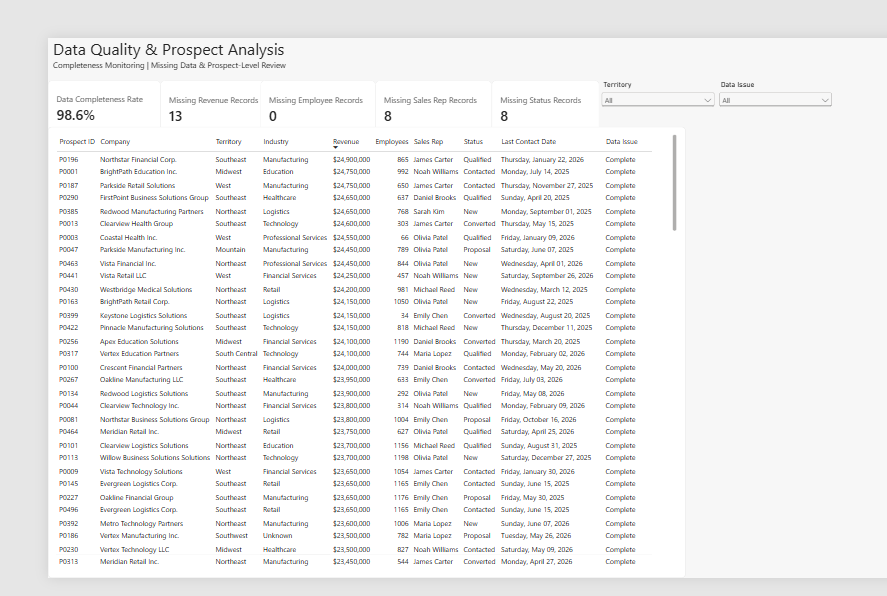

The page's visual inventory and layout, read from the dashboard file:
{"tool":"powerbi","page":{"name":"Data Quality & Prospect Analysis","canvas":[1920,1080],"ordinal":1},"visuals":[{"type":"textbox","box":[10,0,830,95],"z":0},{"type":"cardVisual","fields":{"Data":["Sales Prospects.Data Completeness Rate"]},"box":[0,85,225,110],"z":1000},{"type":"cardVisual","fields":{"Data":["Sales Prospects.Missing Status Records"]},"box":[887.5,85,215,115],"z":2000},{"type":"cardVisual","fields":{"Data":["Sales Prospects.Missing Revenue Records"]},"box":[225,85,225,115],"z":3000},{"type":"cardVisual","fields":{"Data":["Sales Prospects.Missing Employee Records"]},"box":[425,85,230,115],"z":4000},{"type":"cardVisual","fields":{"Data":["Sales Prospects.Missing Sales Rep Records"]},"box":[655,85,232.5,115],"z":5000},{"type":"tableEx","fields":{"Values":["Sales Prospects.Prospect ID","Sales Prospects.Company","Sales Prospects.Territory","Sales Prospects.Industry","Sum(Sales Prospects.Revenue)","Sum(Sales Prospects.Employees)","Sales Prospects.Sales Rep","Sales Prospects.Status","Sales Prospects.Last Contact Date","Sales Prospects.Data Issue"]},"box":[0,177.5,1275,902.5],"z":6000},{"type":"slicer","fields":{"Values":["Sales Prospects.Data Issue"]},"box":[1337.5,85,235,110],"z":6001},{"type":"slicer","fields":{"Values":["Sales Prospects.Territory"]},"box":[1102.5,85,235,100],"z":6002}]}

Visuals, with their boxes on the page's 1920x1080 design canvas (x1, y1, x2, y2). These are canvas units, not pixel positions in the 887x596 screenshot, which may show the page scaled, cropped or inside an application window:
textbox: <region>10, 0, 840, 95</region>
cardVisual - Sales Prospects.Data Completeness Rate: <region>0, 85, 225, 195</region>
cardVisual - Sales Prospects.Missing Status Records: <region>888, 85, 1102, 200</region>
cardVisual - Sales Prospects.Missing Revenue Records: <region>225, 85, 450, 200</region>
cardVisual - Sales Prospects.Missing Employee Records: <region>425, 85, 655, 200</region>
cardVisual - Sales Prospects.Missing Sales Rep Records: <region>655, 85, 888, 200</region>
tableEx - Sales Prospects.Prospect ID x Sales Prospects.Company: <region>0, 178, 1275, 1080</region>
slicer - Sales Prospects.Data Issue: <region>1338, 85, 1572, 195</region>
slicer - Sales Prospects.Territory: <region>1102, 85, 1338, 185</region>
